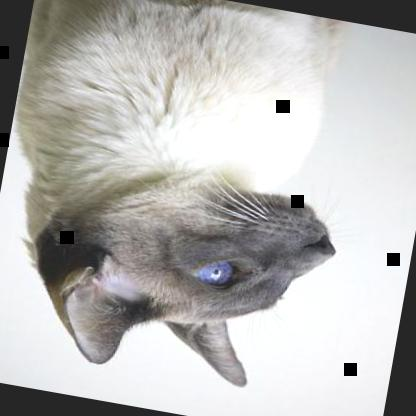cat: (0, 0, 377, 404)
